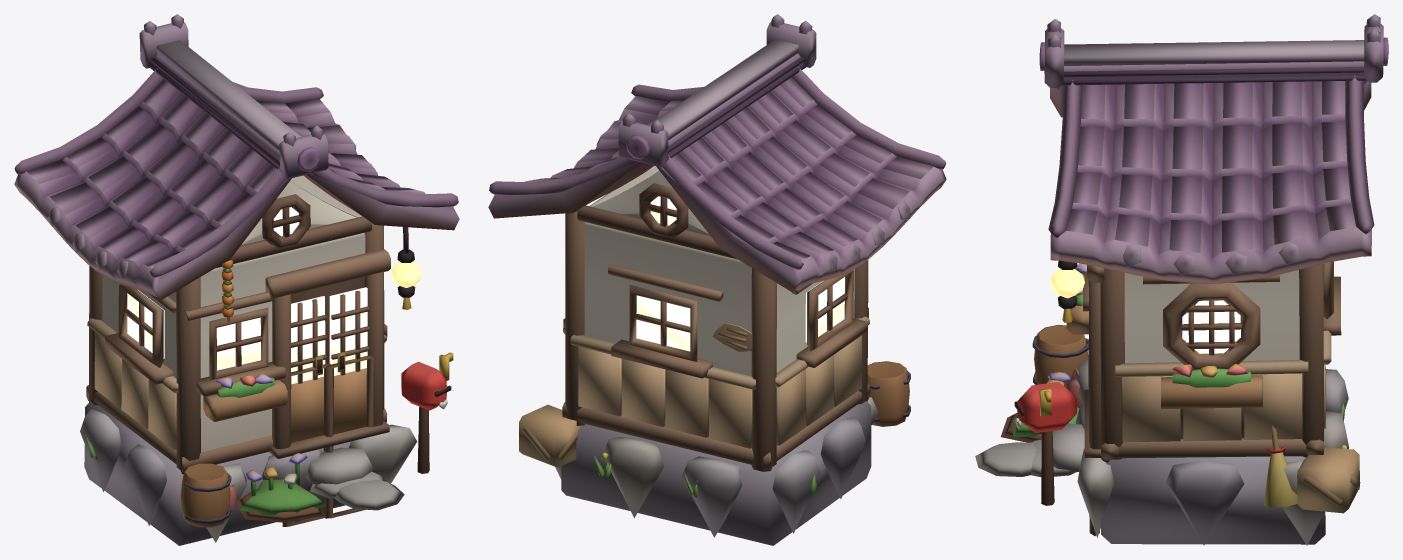
File: home-1-v1.glb
3 renders of one model, left to right at view 1: azimuth 30°, elevation 25°; view 2: azimuth 150°, elevation 25°; view 3: azimuth 270°, elevation 25°, orthographic. The views are drawn at different scales.
Parts seen in each view (by area): view 1: home, window_glow; view 2: home, window_glow; view 3: home, window_glow.
Boxes of the visible parts, x1,y1,x2,y2 form: home: (14, 14, 459, 545); window_glow: (127, 207, 421, 384); home: (488, 14, 946, 545); window_glow: (636, 196, 844, 351); home: (975, 14, 1388, 545); window_glow: (1050, 269, 1240, 353).
Bounding box in the file's own units: 2.28 × 2.94 × 2.36.
